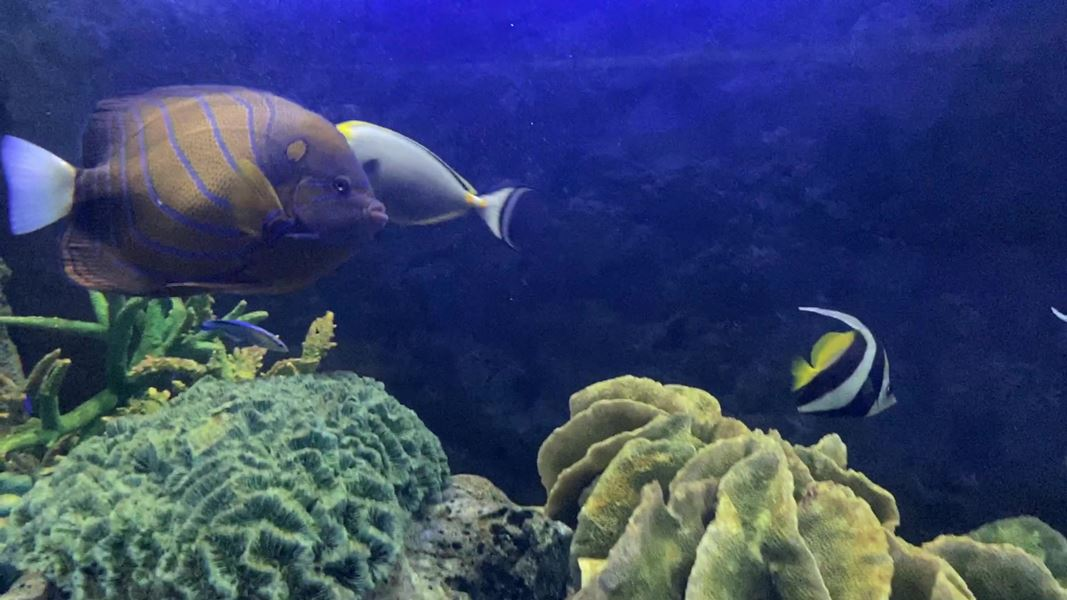Blue ring angelfish: (3, 42, 400, 311)
